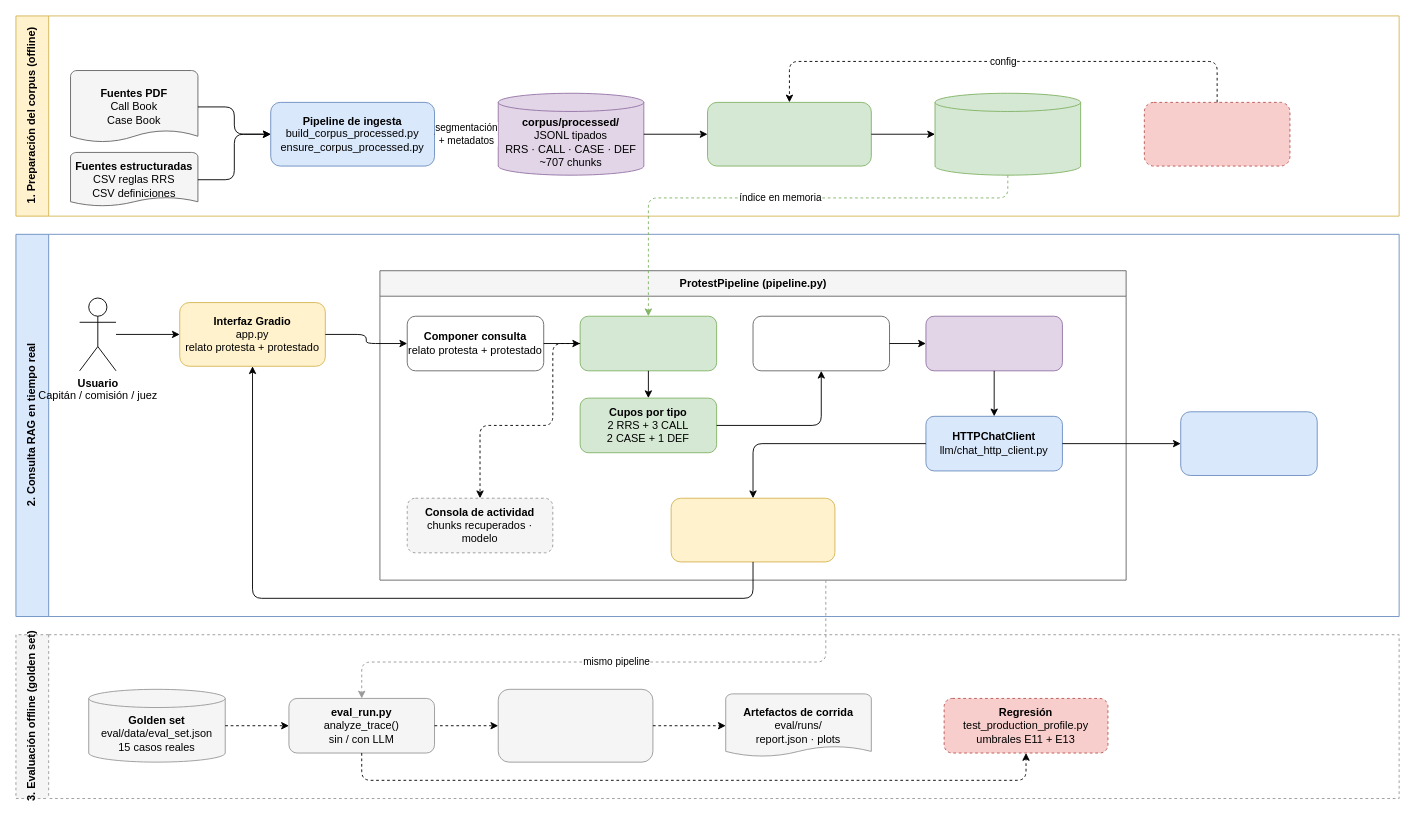
Image size: 1415x817. Some labels were removed from this diagram. The shapes that lost their labels are listed below. From the top down, each one's centre as x and y in pixels, then its label:
At [789,133]: "load_corpus_chunks() Settings: corpus=processed TextChunk + metadatos".
At [1007,133]: "Índice en memoria Lista de TextChunk (arranque de la app)".
At [1216,133]: "Perfiles profiles.py production (defecto) baseline (E0)".
At [648,343]: "CorpusRetriever léxico (E11) top_k = 8".
At [821,343]: "Formatear contexto format_chunks_for_prompt()".
At [993,343]: "Prompt v3 (ES) prompts.py system + user (CoT)".
At [1248,443]: "Ollama Qwen 2.5 14B API /v1/chat".
At [752,529]: "Respuesta estructurada citas RRS / CALL / CASE rationale · Decisión".
At [575,725]: "Métricas R@k reglas / CALL F1 citas · Jaccard dictamen humano".
